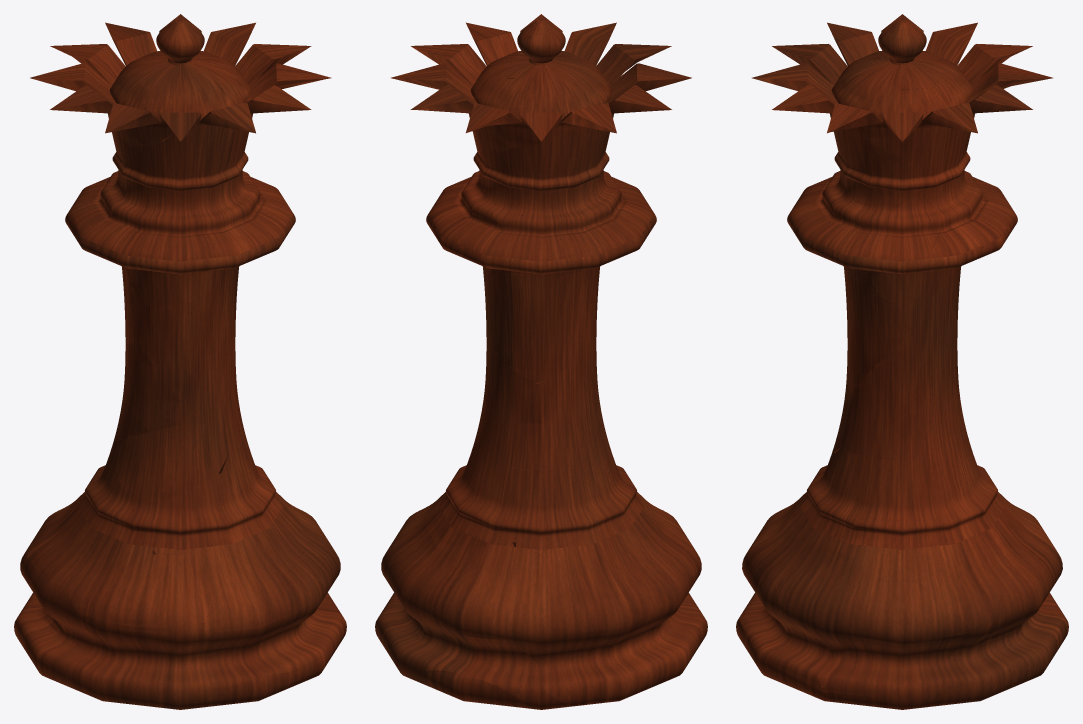
The model's file is queenAnimated.gltf.
3 views of the same model, side by side, from view 1: azimuth 30°, elevation 25°; view 2: azimuth 150°, elevation 25°; view 3: azimuth 270°, elevation 25° (orthographic).
Parts seen in each view (by area): view 1: mesh01_cell.098, mesh01_cell.041, mesh01_cell.044, mesh01_cell.091, mesh01_cell.016, mesh01_cell.047, mesh01_cell.073, mesh01_cell.028, mesh01_cell.075, mesh01_cell.105, mesh01_cell.056, mesh01_cell.072 (+37 smaller); view 2: mesh01_cell.084, mesh01_cell.027, mesh01_cell.068, mesh01_cell.079, mesh01_cell.058, mesh01_cell.007, mesh01_cell.056, mesh01_cell.071, mesh01_cell.096, mesh01_cell.089, mesh01_cell.105, mesh01_cell.081 (+40 smaller); view 3: mesh01_cell.094, mesh01_cell.008, mesh01_cell.033, mesh01_cell.044, mesh01_cell.081, mesh01_cell.049, mesh01_cell.066, mesh01_cell.065, mesh01_cell.013, mesh01_cell.072, mesh01_cell.098, mesh01_cell.067 (+31 smaller).
Part boxes in pixels (x1,y1,x2,y2): mesh01_cell.098: (139, 275, 238, 423); mesh01_cell.041: (113, 420, 229, 501); mesh01_cell.044: (218, 451, 314, 583); mesh01_cell.091: (137, 626, 221, 705); mesh01_cell.016: (140, 553, 235, 628); mesh01_cell.047: (67, 542, 154, 628); mesh01_cell.073: (66, 614, 140, 704); mesh01_cell.028: (202, 558, 306, 631); mesh01_cell.075: (153, 473, 233, 555); mesh01_cell.105: (30, 63, 173, 145); mesh01_cell.056: (113, 342, 199, 442); mesh01_cell.072: (272, 578, 346, 679); mesh01_cell.084: (501, 544, 625, 705); mesh01_cell.027: (484, 271, 596, 382); mesh01_cell.068: (515, 466, 628, 606); mesh01_cell.079: (442, 442, 536, 552); mesh01_cell.058: (433, 542, 515, 640); mesh01_cell.007: (475, 340, 546, 473); mesh01_cell.056: (536, 335, 600, 466); mesh01_cell.071: (426, 626, 574, 709); mesh01_cell.096: (589, 570, 693, 676); mesh01_cell.089: (582, 625, 696, 705); mesh01_cell.105: (558, 56, 691, 139); mesh01_cell.081: (391, 23, 505, 117); mesh01_cell.094: (843, 332, 940, 459); mesh01_cell.008: (823, 632, 974, 709); mesh01_cell.033: (776, 554, 876, 686); mesh01_cell.044: (768, 445, 855, 583); mesh01_cell.081: (829, 88, 977, 166); mesh01_cell.049: (916, 534, 1005, 635); mesh01_cell.066: (866, 193, 942, 307); mesh01_cell.065: (860, 580, 970, 644); mesh01_cell.013: (847, 453, 935, 521); mesh01_cell.072: (747, 578, 832, 691); mesh01_cell.098: (844, 279, 914, 404); mesh01_cell.067: (849, 520, 931, 581).
Size of the model in its own units: 14.93 by 30.96 by 14.93.
Materials: 1 (1 with a texture image).
